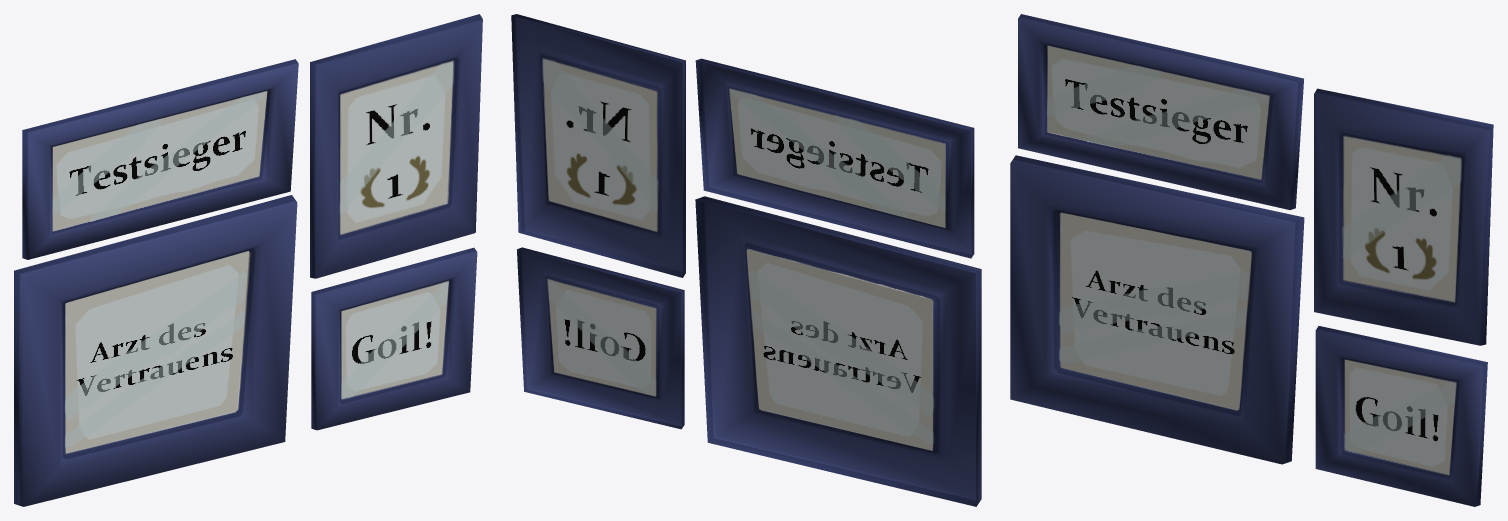
Rendered from TherapyPictures.fbx.
3 views of the same model, side by side, from view 1: azimuth 30°, elevation 25°; view 2: azimuth 150°, elevation 25°; view 3: azimuth 330°, elevation 25° (orthographic). The views are drawn at different scales.
Visible parts, largest first — view 1: polySurface34; view 2: polySurface34; view 3: polySurface34.
Part boxes in pixels (box(x1,y1,x2,y2)): polySurface34: box(14, 14, 482, 506); polySurface34: box(511, 14, 981, 506); polySurface34: box(1010, 14, 1493, 506).
Size of the model in its own units: 512 by 397 by 18.54.
